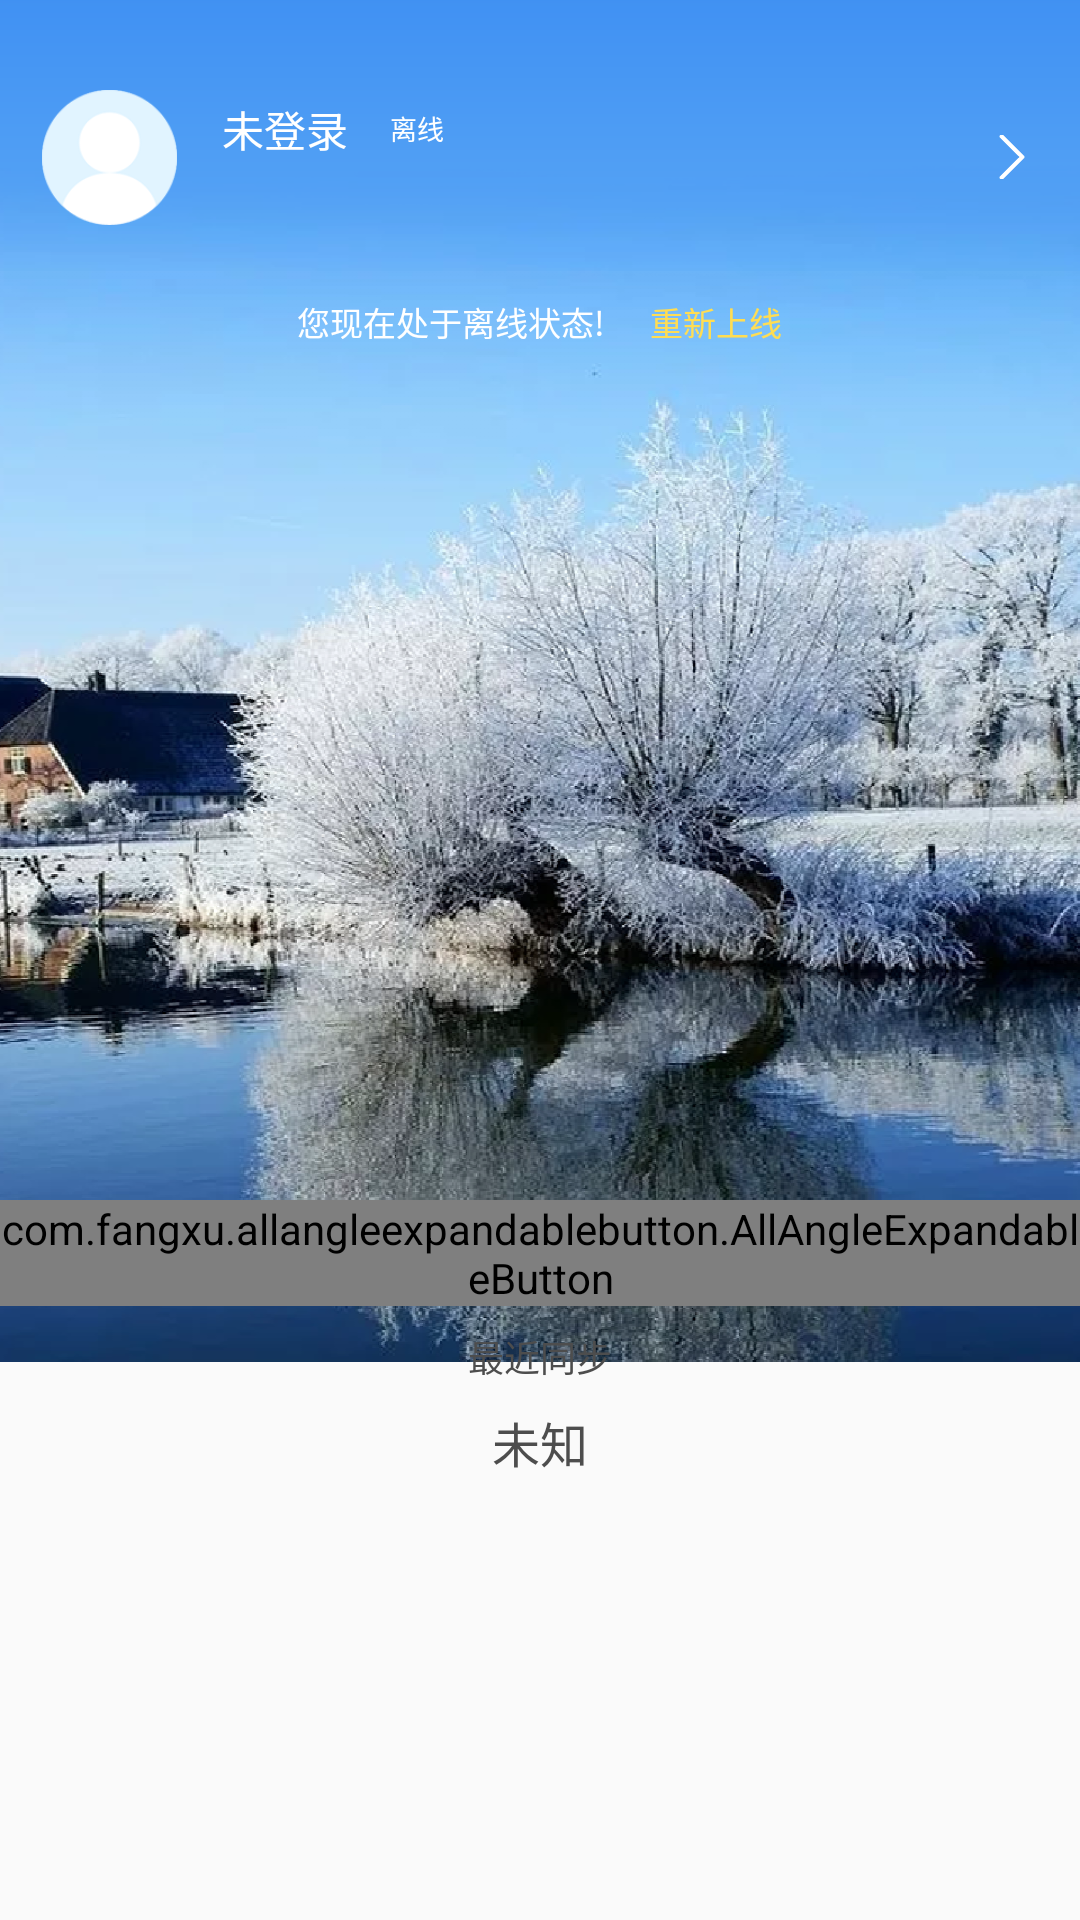

Icon click points for this 1080x1920 phone screenshot, format [x,y]:
jiant right: [1012,157]
toux: [109,157]
